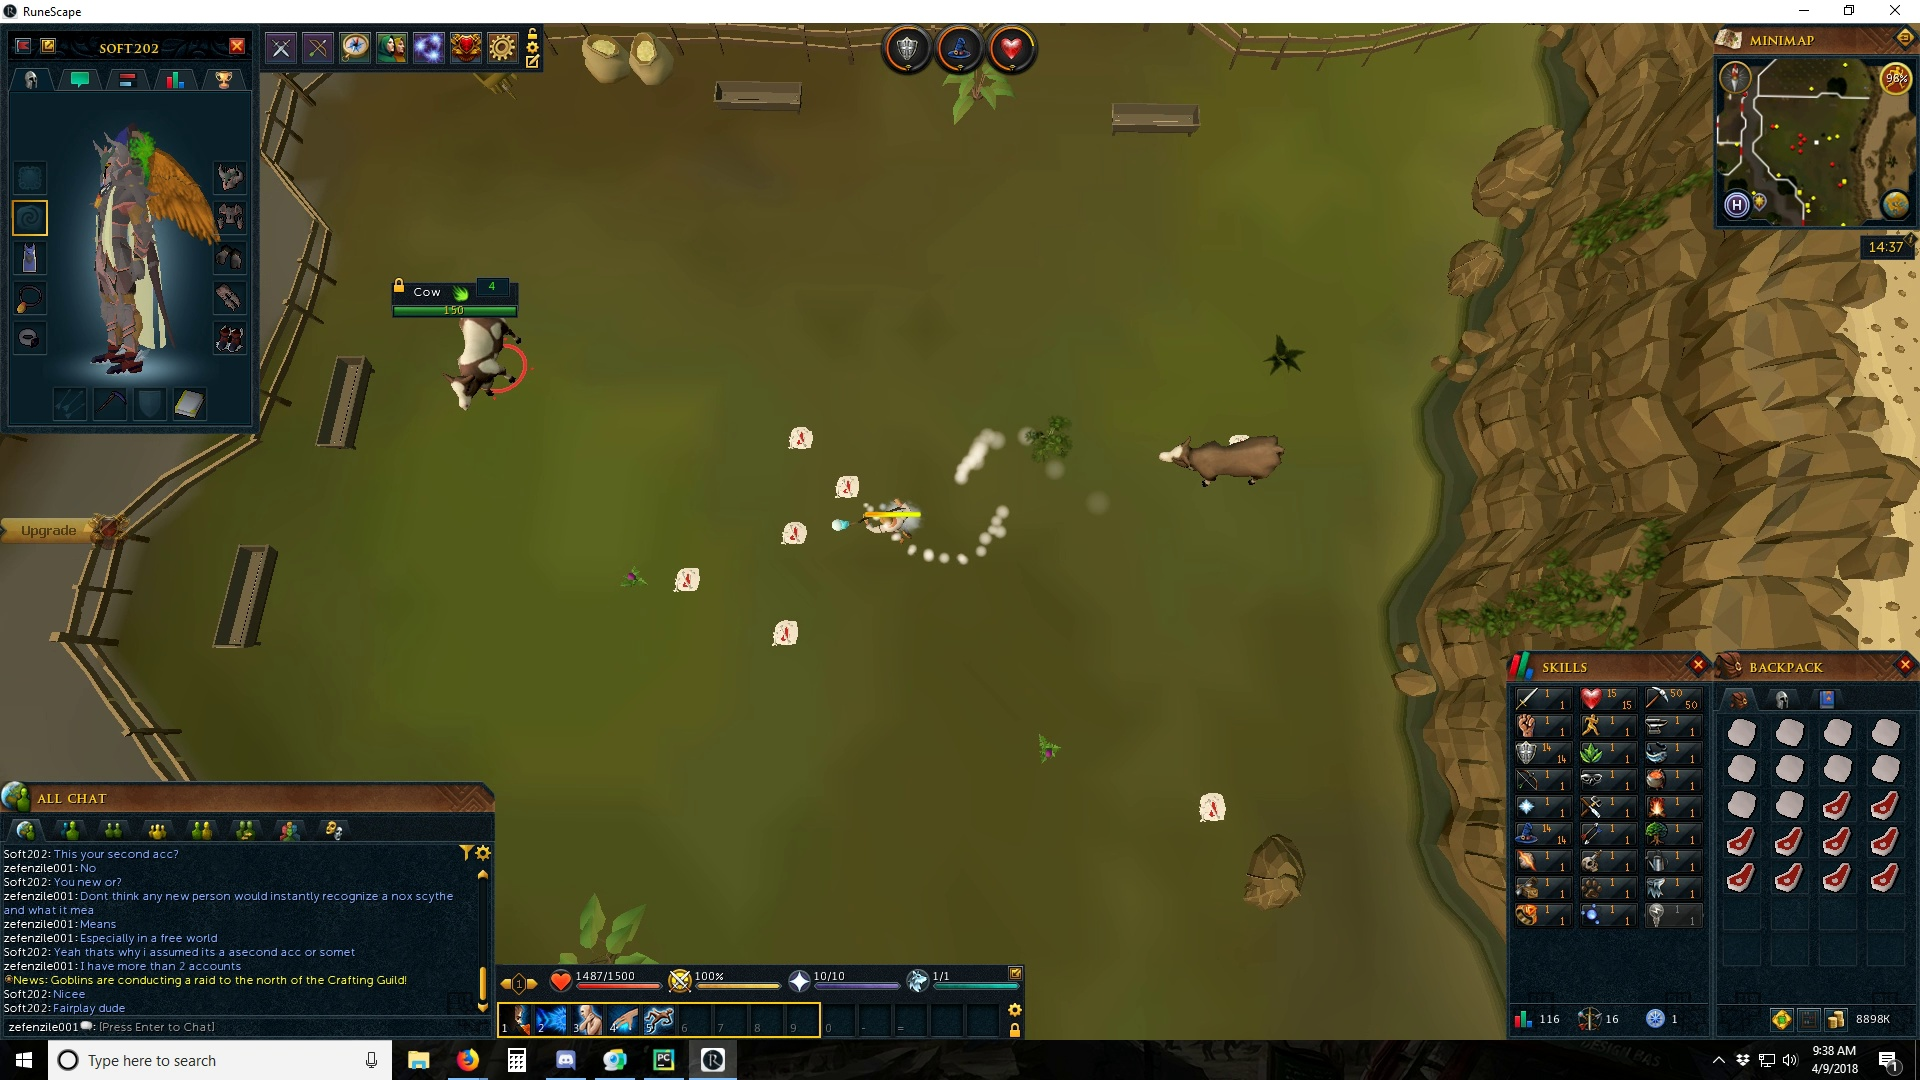cow: (444, 318, 527, 413), (1156, 436, 1287, 487)
cow_drop: (673, 563, 705, 596), (1196, 791, 1226, 825), (785, 423, 818, 454), (767, 618, 800, 649), (779, 520, 812, 547), (833, 469, 864, 498)
